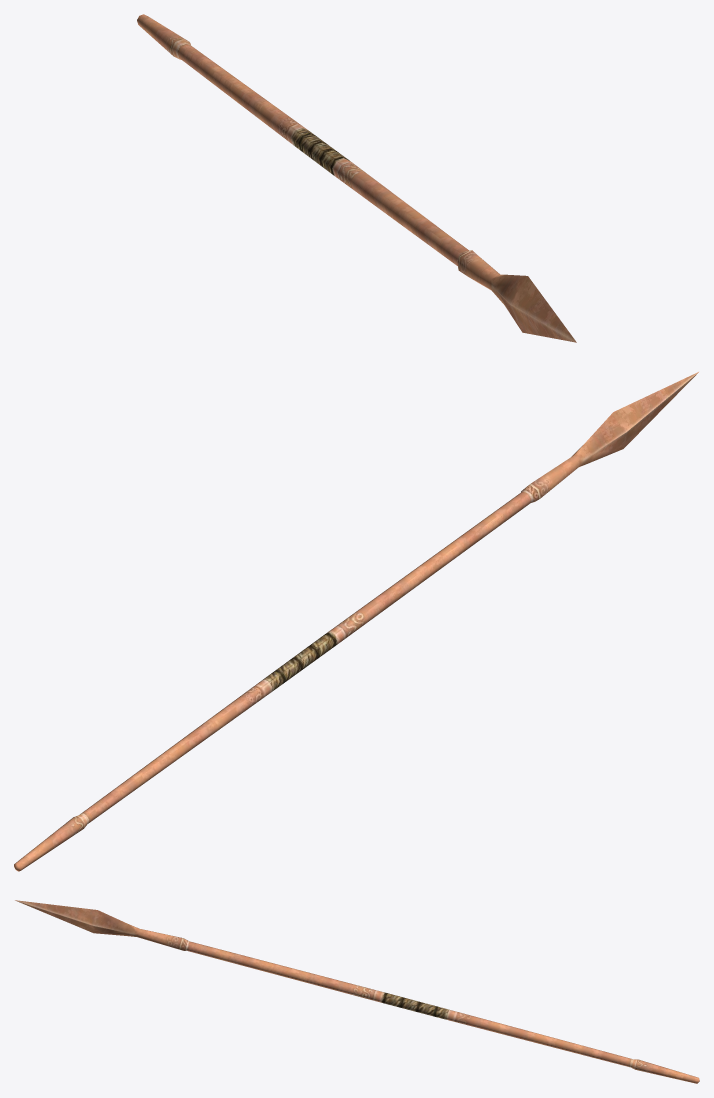
The model's file is weapon-ironweapons.glb.
3 views of the same model, one above another, from view 1: azimuth 30°, elevation 25°; view 2: azimuth 150°, elevation 25°; view 3: azimuth 270°, elevation 25° (orthographic). The views are drawn at different scales.
Size of the model in its own units: 0.588 by 0.5394 by 2.74.
1 material, 1 textured.
